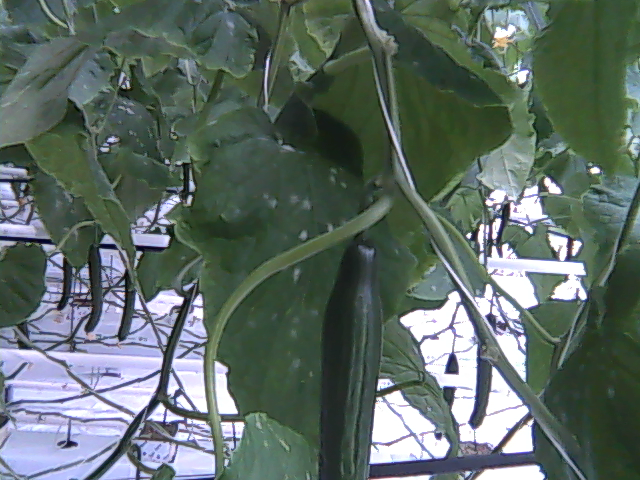concombre: (317, 228, 389, 480)
